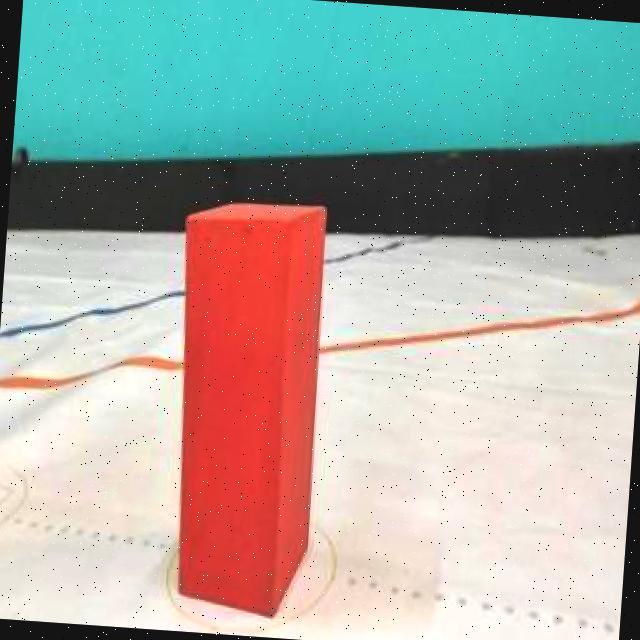redbox: (163, 198, 328, 611)
